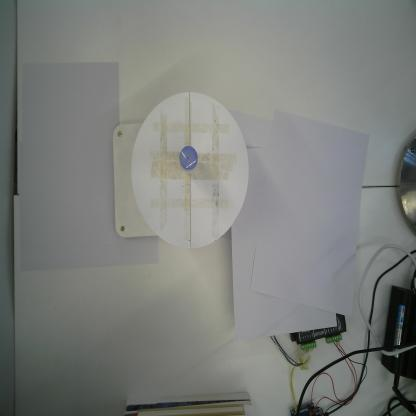Stationery: (179, 144, 198, 172)
